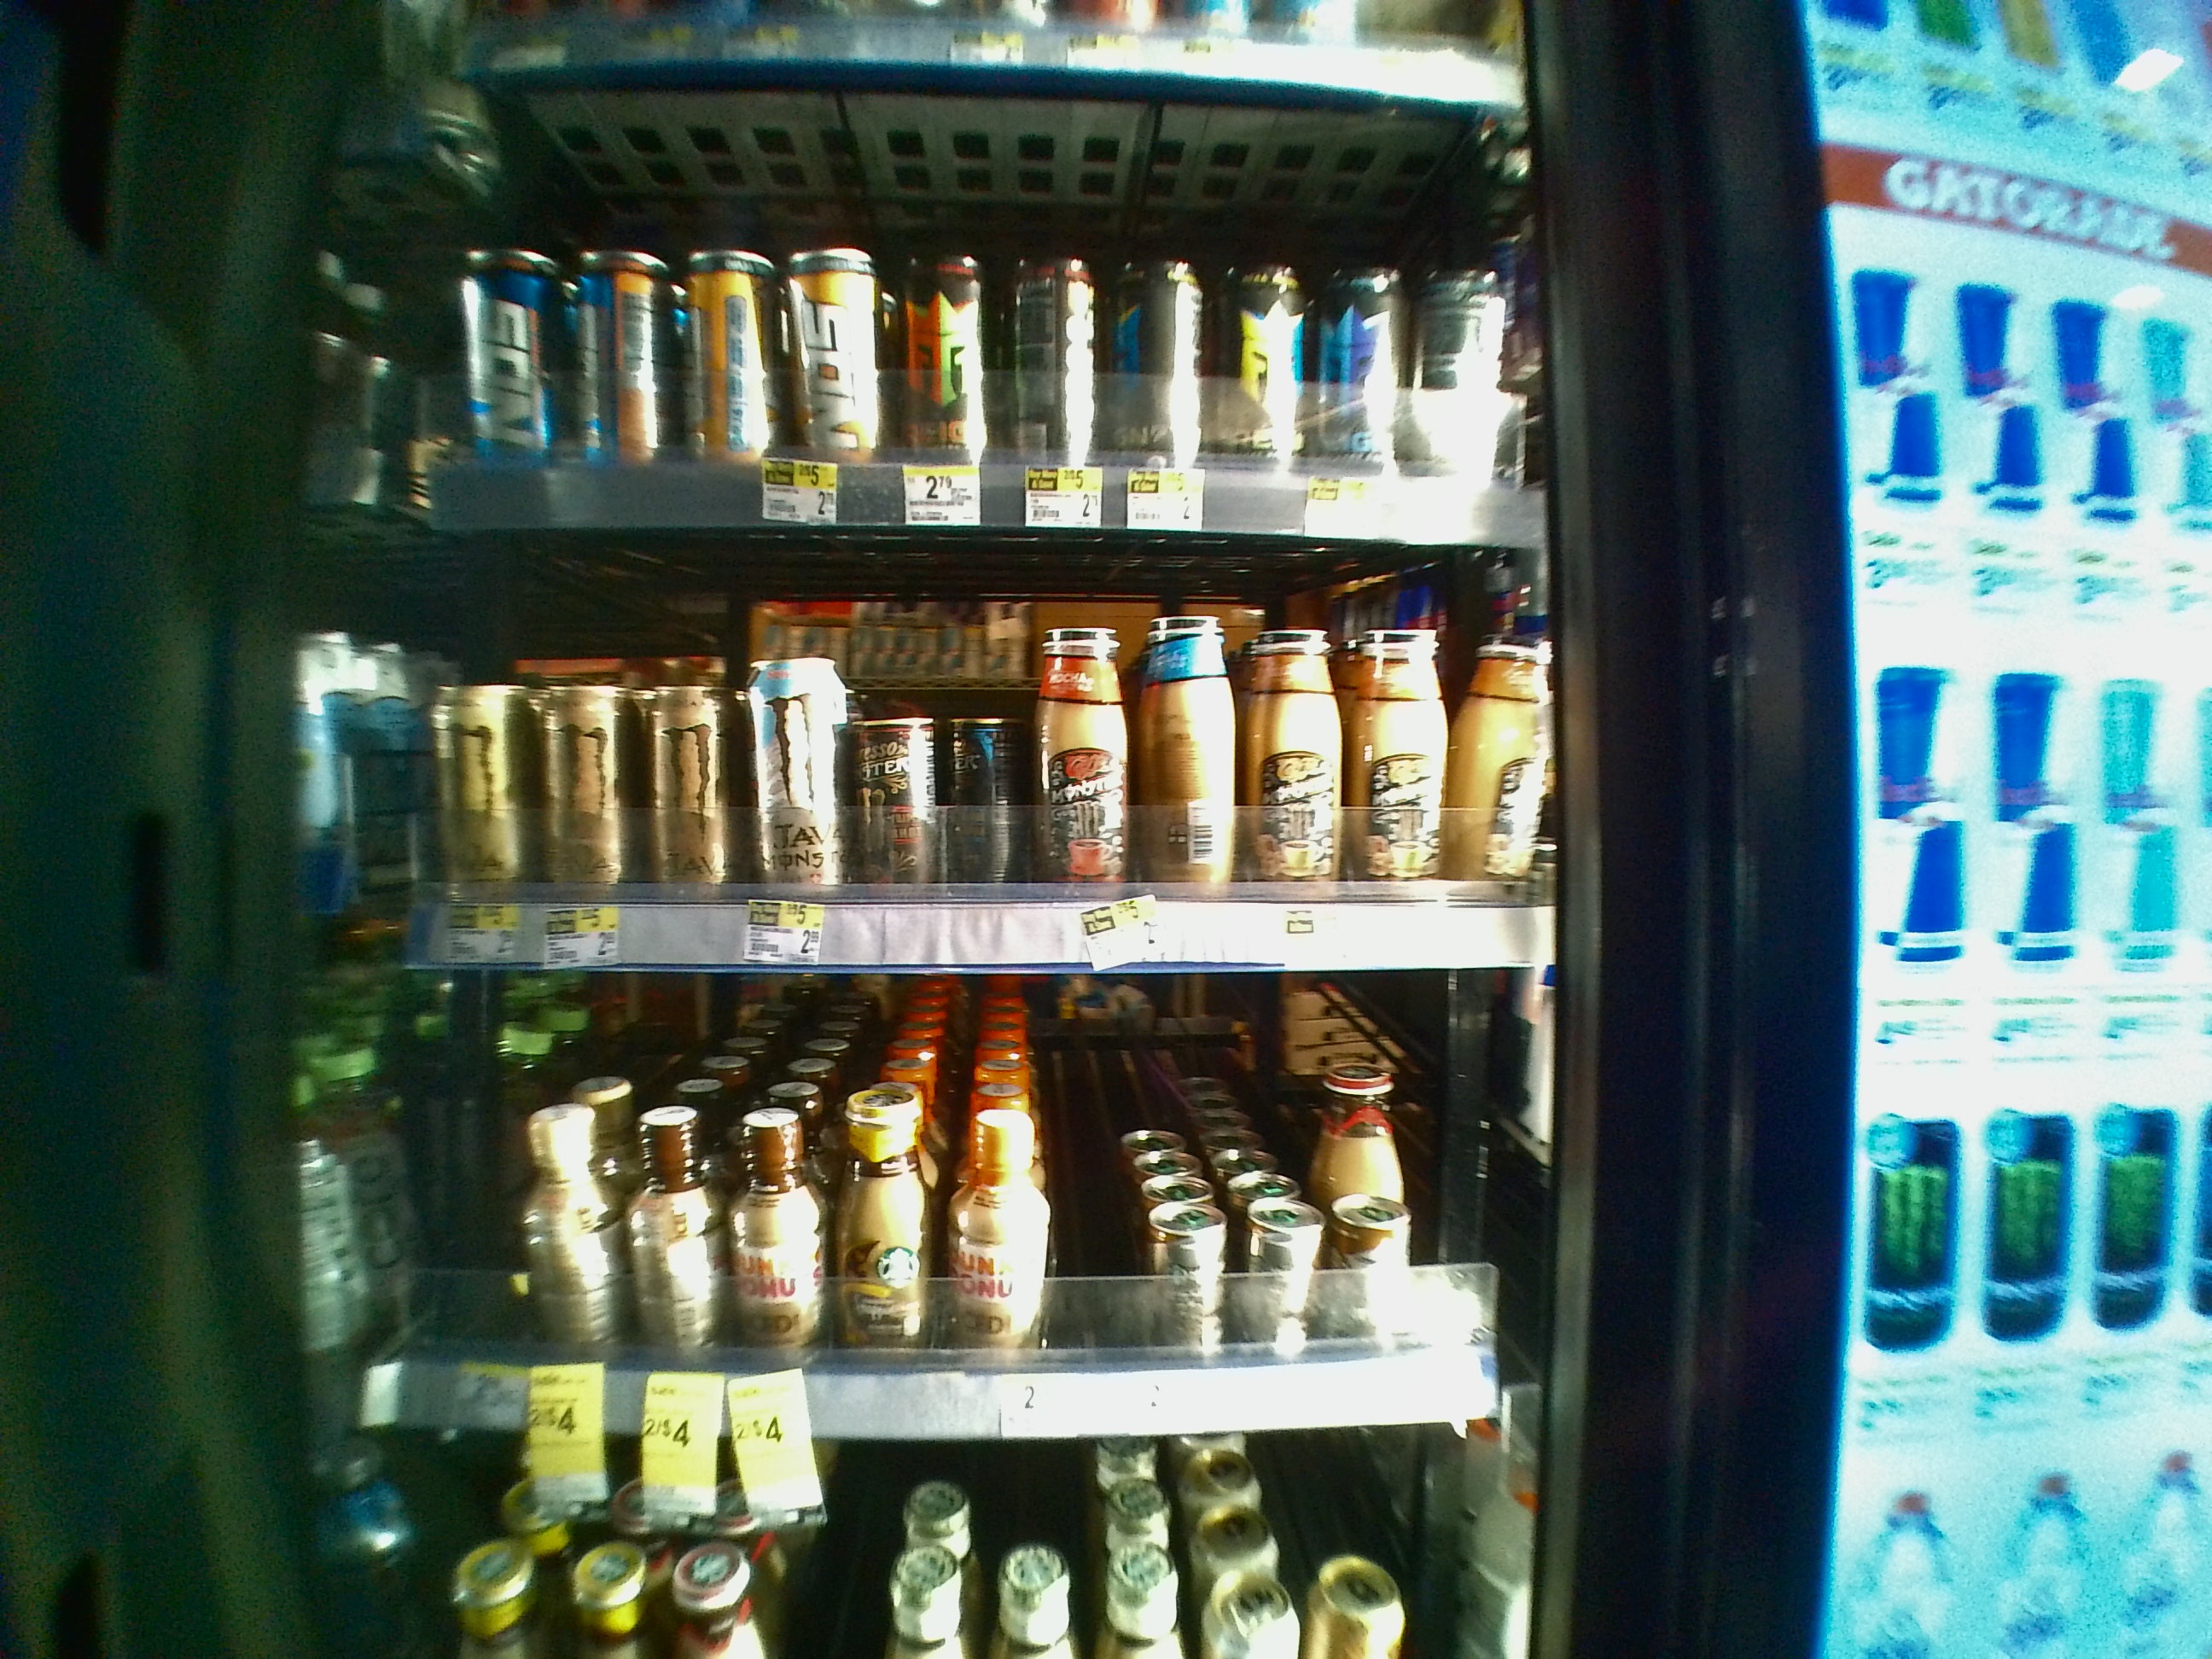shelf: (280, 967, 1568, 1434), (280, 530, 1576, 972)
